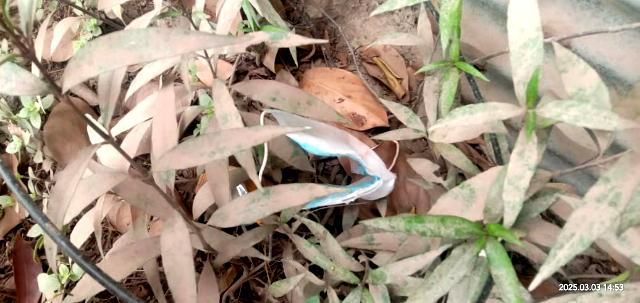mask: (263, 77, 397, 214)
